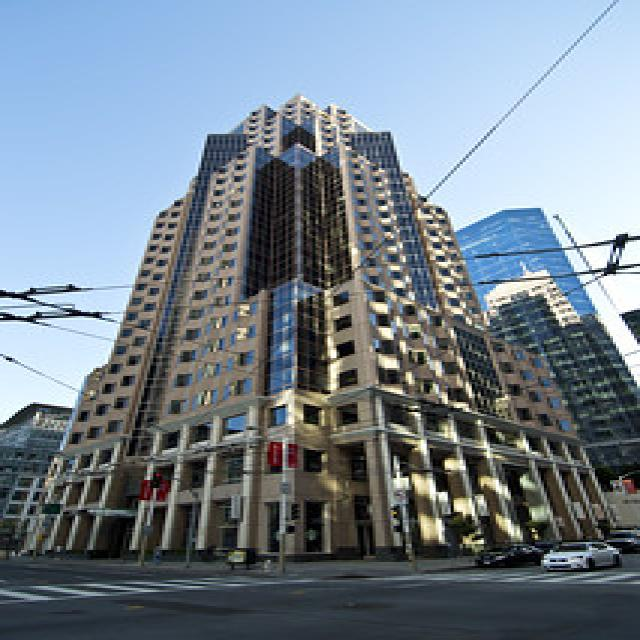building: (63, 90, 601, 570)
